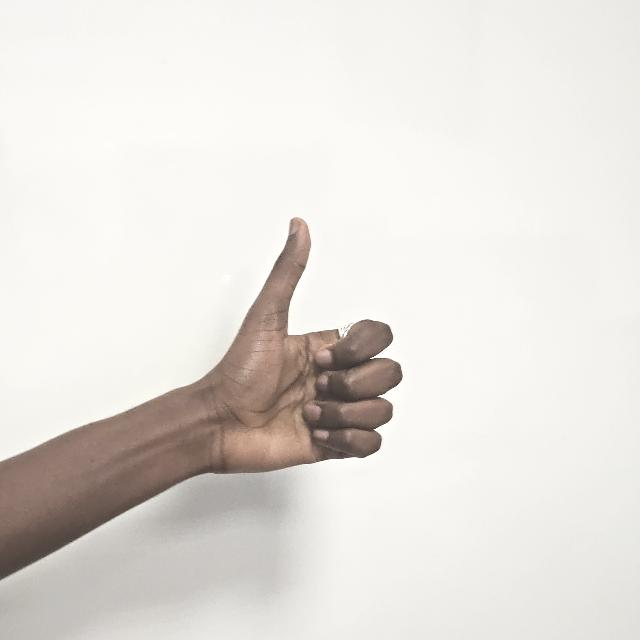Start: (207, 216, 403, 482)
